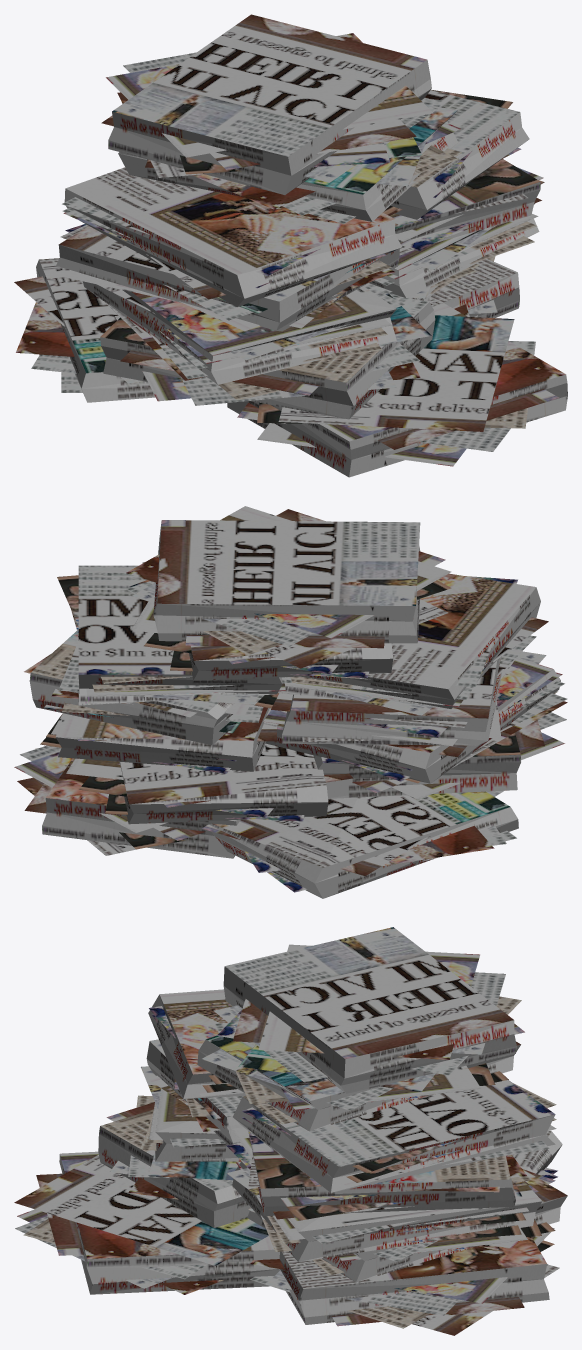
File: paperstack.FBX
The picture shows the model from 3 angles, top to bottom: view 1: azimuth 30°, elevation 25°; view 2: azimuth 150°, elevation 25°; view 3: azimuth 270°, elevation 25°; orthographic projection. The views are drawn at different scales.
Visible parts, largest first — view 1: Box14; view 2: Box14; view 3: Box14.
Boxes of the visible parts, <box> form: Box14: <box>14,14,567,477</box>; Box14: <box>14,506,567,898</box>; Box14: <box>14,927,567,1335</box>.
Size of the model in its own units: 57.8 by 61.95 by 28.96.
Materials: 1 (1 with a texture image).
